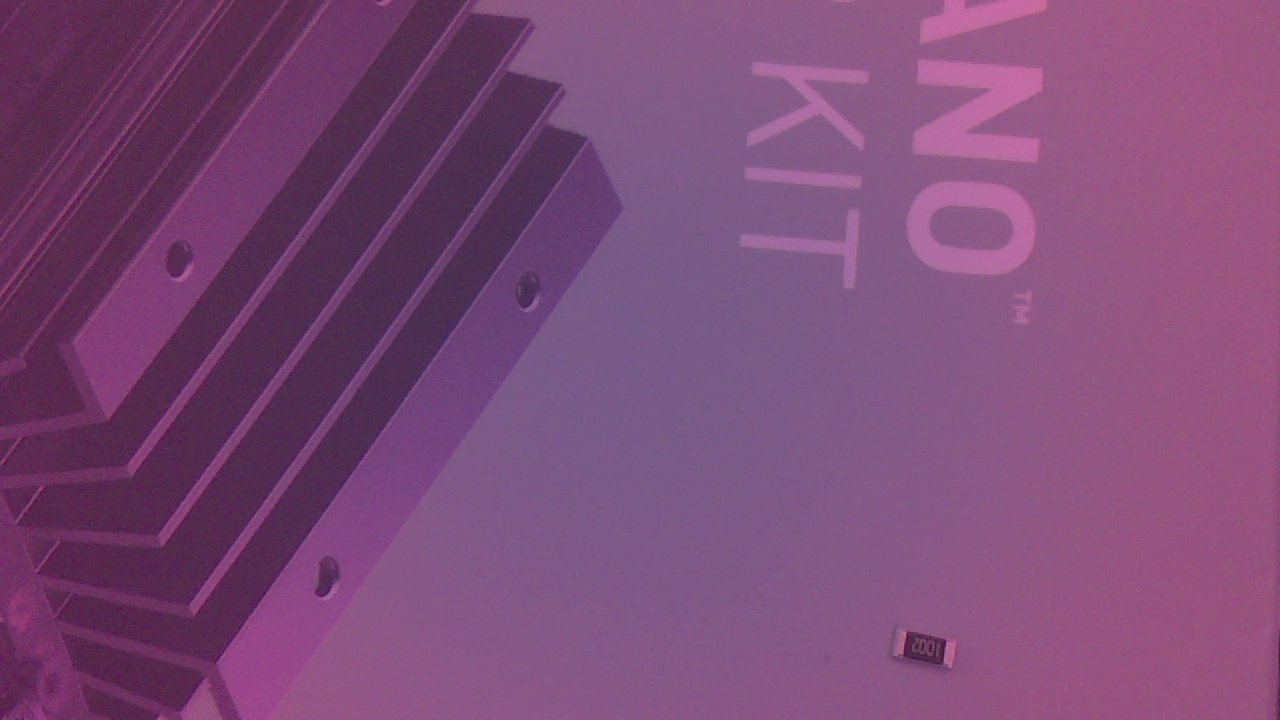Resistor: (889, 624, 969, 680)
